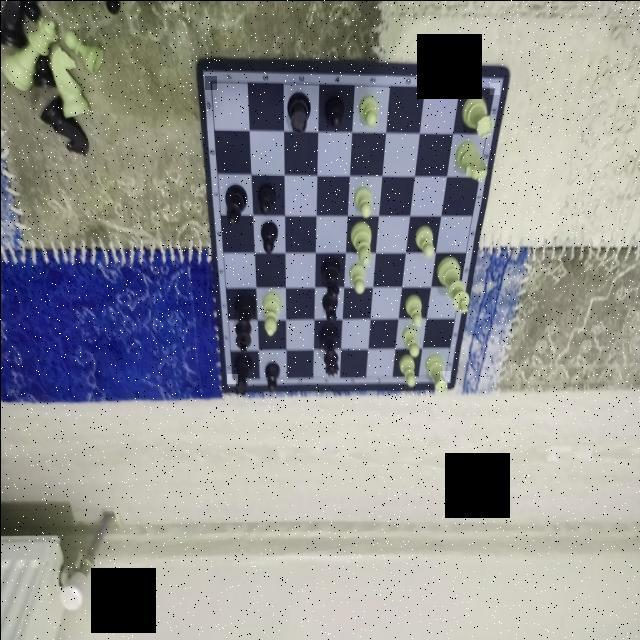chess-table-corners: (204, 75, 216, 89), (439, 370, 450, 382), (489, 82, 499, 94), (226, 373, 237, 383)
